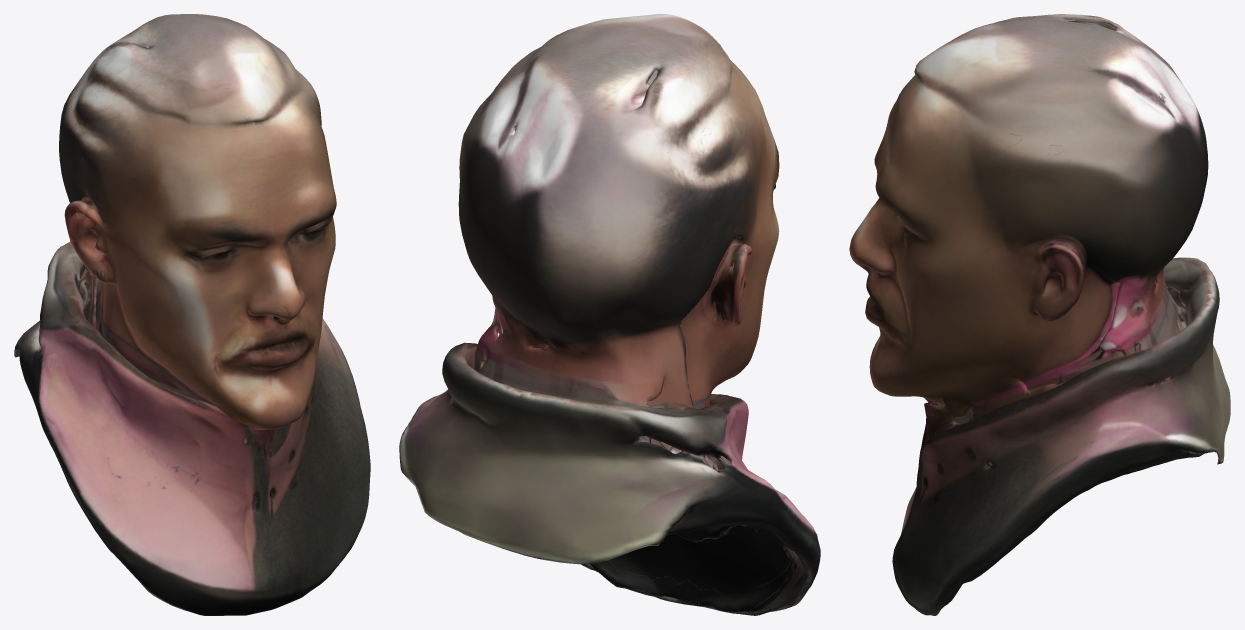
File: Contemplative_Moment_0902105639.glb
3 views of the same model, side by side, from view 1: azimuth 30°, elevation 25°; view 2: azimuth 150°, elevation 25°; view 3: azimuth 270°, elevation 25° (orthographic). The views are drawn at different scales.
Size of the model in its own units: 1.17 by 2 by 1.22.
Materials: 1 (1 with a texture image).
